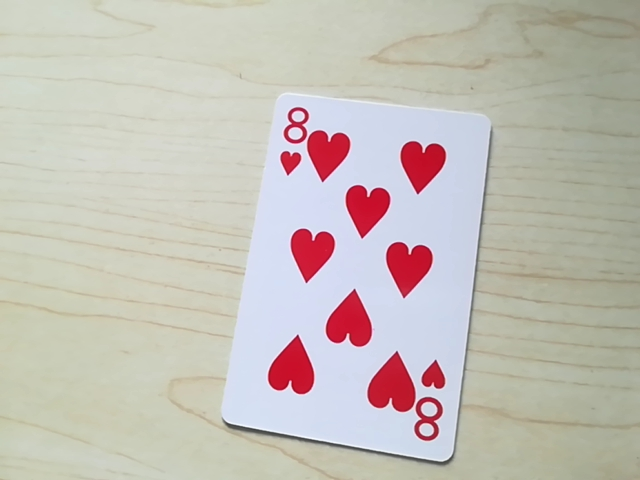hx 8: (407, 380, 449, 451), (276, 99, 313, 142)
